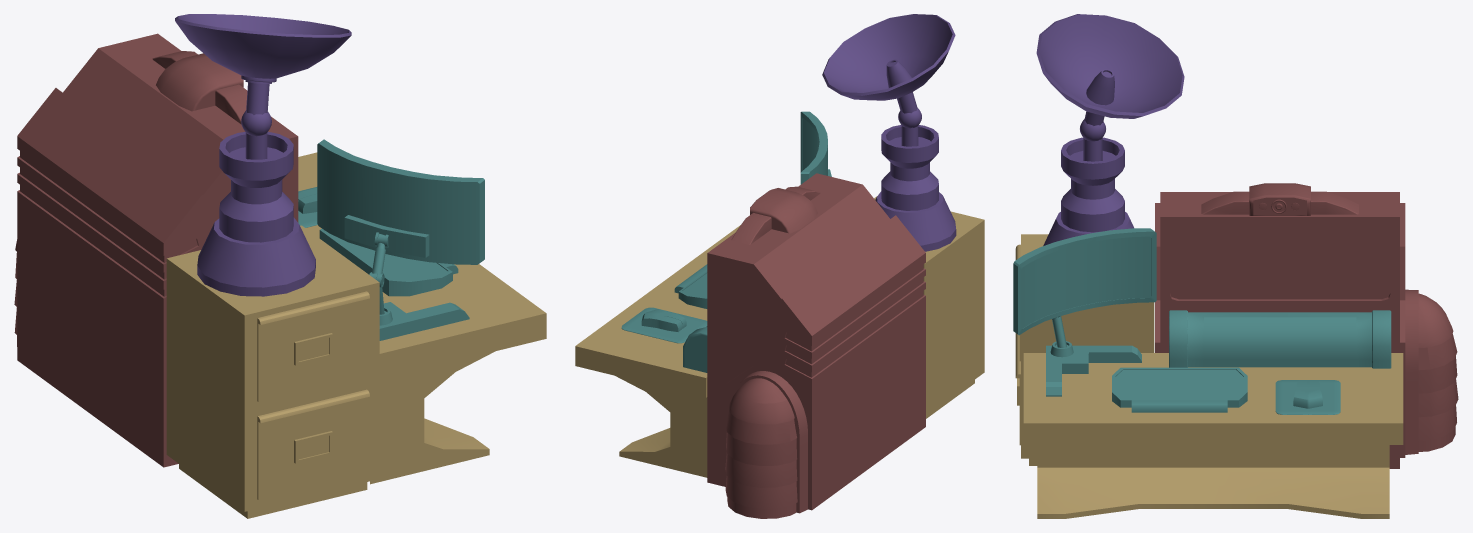
File: Fbx_Hero_CommunicationTerminal.fbx
3 renders of one model, left to right at view 1: azimuth 30°, elevation 25°; view 2: azimuth 150°, elevation 25°; view 3: azimuth 270°, elevation 25°, orthographic. The views are drawn at different scales.
Parts seen in each view (by area): view 1: pCube7, pCube4, pCube2, Large_Screen, pCube6, pCylinder4, pCylinder2, pCylinder9, pCube10, Cam_Base, pCube18, pCube5 (+7 smaller); view 2: pCube7, Large_Screen, pCube2, pCube4, pSphere2, pCylinder4, pCylinder2, pCylinder9, Cam_Base, pSphere3, pCube6, pCube11 (+5 smaller); view 3: pCube2, Large_Screen, pCylinder4, pCube6, pCube17, pCube9, pCube10, pCube4, pSphere2, pCylinder2, pSphere3, pCube5 (+8 smaller).
Boxes of the visible parts, x1,y1,x2,y2 form: pCube7: (17,88,219,467); pCube4: (166,225,379,518); pCube2: (298,152,546,484); Large_Screen: (63,33,298,222); pCube6: (317,139,484,264); pCylinder4: (175,14,351,83); pCylinder2: (219,131,293,242); pCylinder9: (197,217,315,296); pCube10: (319,228,458,296); Cam_Base: (156,53,243,111); pCube18: (344,215,429,257); pCube5: (379,302,469,340); pCube7: (725,215,925,510); Large_Screen: (707,173,889,486); pCube2: (575,225,740,477); pCube4: (874,196,984,418); pSphere2: (725,378,797,518); pCylinder4: (822,14,955,100); pCylinder2: (881,125,938,210); pCylinder9: (875,191,956,251); Cam_Base: (750,188,817,233); pSphere3: (727,371,807,513); pCube6: (800,111,827,184); pCube11: (621,307,707,343); pCube2: (1023,353,1403,518); Large_Screen: (1160,192,1399,468); pCylinder4: (1036,14,1184,118); pCube6: (1013,228,1156,335); pCube17: (1204,317,1356,359); pCube9: (1169,310,1391,368); pCube10: (1112,367,1247,412); pCube4: (1019,234,1154,465); pSphere2: (1418,293,1458,451); pCylinder2: (1061,137,1124,232); pSphere3: (1405,289,1418,454); pCube5: (1046,345,1141,396).
Bounding box in the file's own units: 284 × 417 × 418.
